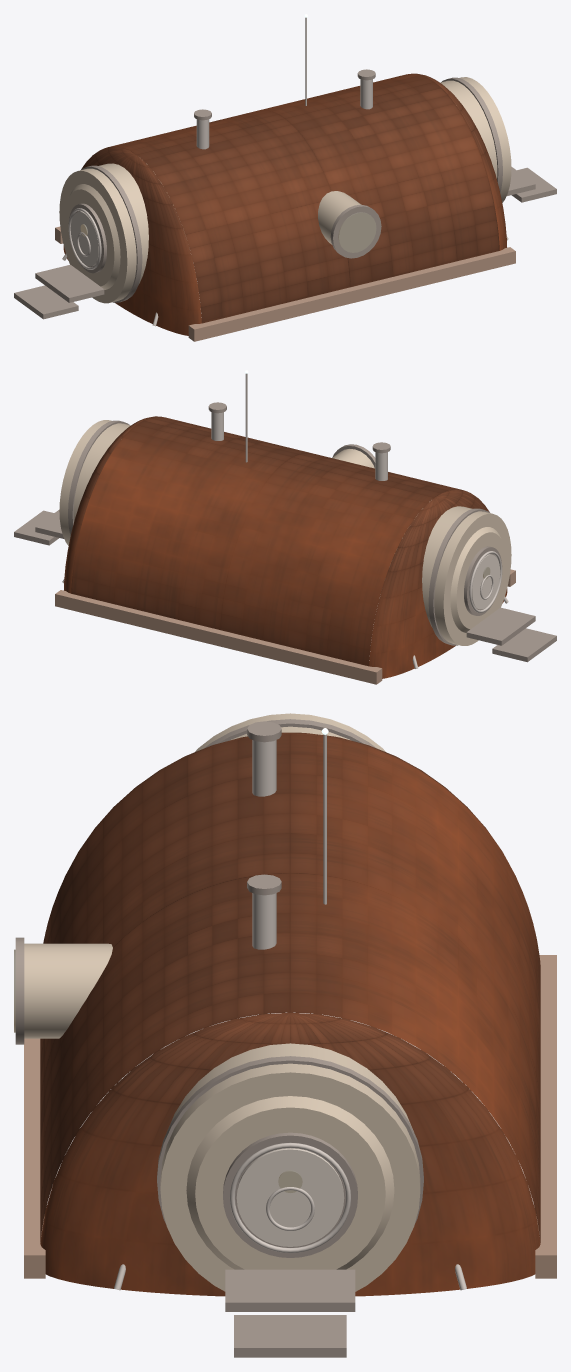
File: W06_buried_habitat_10m.glb
The picture shows the model from 3 angles, top to bottom: view 1: azimuth 30°, elevation 25°; view 2: azimuth 150°, elevation 25°; view 3: azimuth 270°, elevation 25°; orthographic projection. The views are drawn at different scales.
Parts seen in each view (by area): view 1: regolith_mound, mound_end (×2), hull_end (×2), toe_wall, hatch_step (×4), end_cone, end_ring (×2), window, door, window_tube, window_frame, door_frame (+2 smaller); view 2: regolith_mound, mound_end (×2), hull_end (×2), toe_wall, hatch_step (×4), end_cone, end_ring (×2), door, door_frame, window_tube, seal; view 3: regolith_mound, mound_end (×2), hull_end (×2), end_cone, hatch_step (×2), toe_wall (×2), door, window_tube, end_ring (×2), door_frame, vent_pipe (×2), seal (+1 smaller).
Boxes of the visible parts, bbox=[...] form: regolith_mound: bbox=[104, 73, 499, 323]; mound_end (×2): bbox=[63, 73, 506, 335]; hull_end (×2): bbox=[59, 77, 511, 303]; toe_wall: bbox=[188, 247, 515, 341]; hatch_step (×4): bbox=[14, 166, 556, 319]; end_cone: bbox=[64, 184, 120, 289]; end_ring (×2): bbox=[80, 77, 502, 302]; window: bbox=[338, 212, 376, 252]; door: bbox=[70, 211, 98, 266]; window_tube: bbox=[318, 191, 360, 244]; window_frame: bbox=[330, 204, 381, 258]; door_frame: bbox=[68, 203, 106, 273]; regolith_mound: bbox=[71, 416, 467, 666]; mound_end (×2): bbox=[64, 416, 507, 678]; hull_end (×2): bbox=[59, 420, 511, 645]; toe_wall: bbox=[55, 590, 382, 684]; hatch_step (×4): bbox=[14, 509, 556, 662]; end_cone: bbox=[450, 527, 506, 632]; end_ring (×2): bbox=[68, 420, 489, 645]; door: bbox=[472, 554, 500, 609]; door_frame: bbox=[464, 546, 502, 615]; window_tube: bbox=[332, 449, 374, 468]; seal: bbox=[469, 551, 502, 612]; regolith_mound: bbox=[40, 734, 540, 1242]; mound_end (×2): bbox=[40, 732, 540, 1296]; hull_end (×2): bbox=[160, 713, 420, 1291]; end_cone: bbox=[186, 1096, 394, 1269]; hatch_step (×2): bbox=[225, 1269, 355, 1357]; toe_wall (×2): bbox=[24, 955, 556, 1278]; door: bbox=[236, 1148, 344, 1246]; window_tube: bbox=[24, 943, 112, 1038]; end_ring (×2): bbox=[157, 719, 423, 1224]; door_frame: bbox=[223, 1132, 357, 1257]; vent_pipe (×2): bbox=[252, 740, 276, 949]; seal: bbox=[230, 1142, 350, 1252].
Bounding box in the file's own units: 13.1 × 5.49 × 6.26.
Materials: 9 (2 with a texture image).
